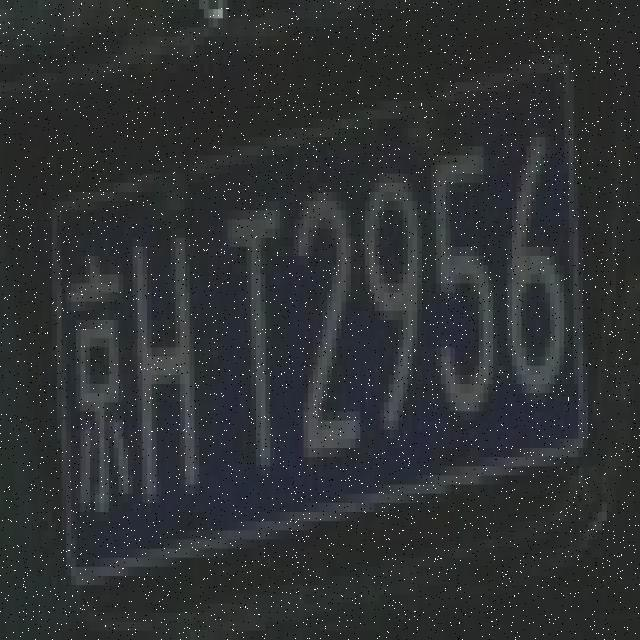LicensePlate: (48, 46, 590, 590)
